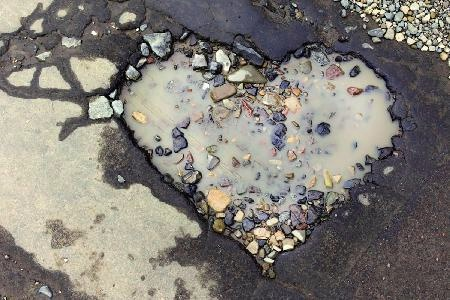pothole: (105, 26, 404, 278)
